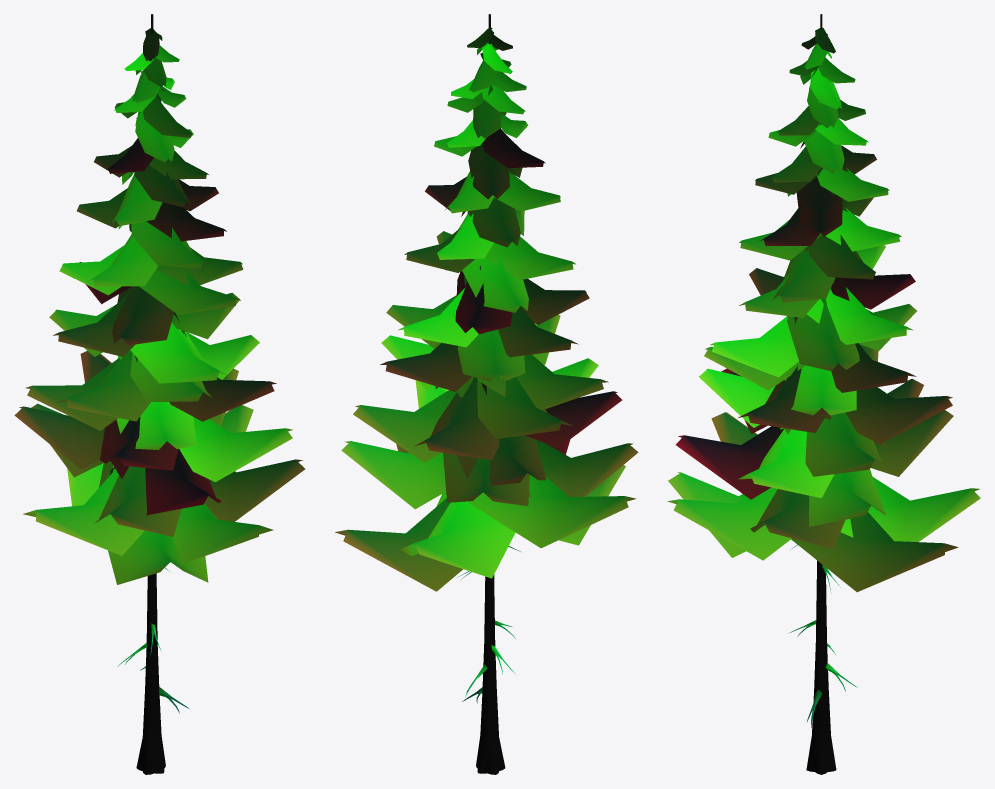
Rendered from M_Pine_6_4.fbx.
3 renders of one model, left to right at view 1: azimuth 30°, elevation 25°; view 2: azimuth 150°, elevation 25°; view 3: azimuth 270°, elevation 25°, orthographic.
Parts seen in each view (by area): view 1: Tree_4; view 2: Tree_4; view 3: Tree_4.
Part boxes in pixels (left/top/right/bottom): Tree_4: left=14, top=14, right=305, bottom=774; Tree_4: left=335, top=14, right=638, bottom=774; Tree_4: left=667, top=14, right=980, bottom=774.
Bounding box in the file's own units: 1013 × 2815 × 1061.
